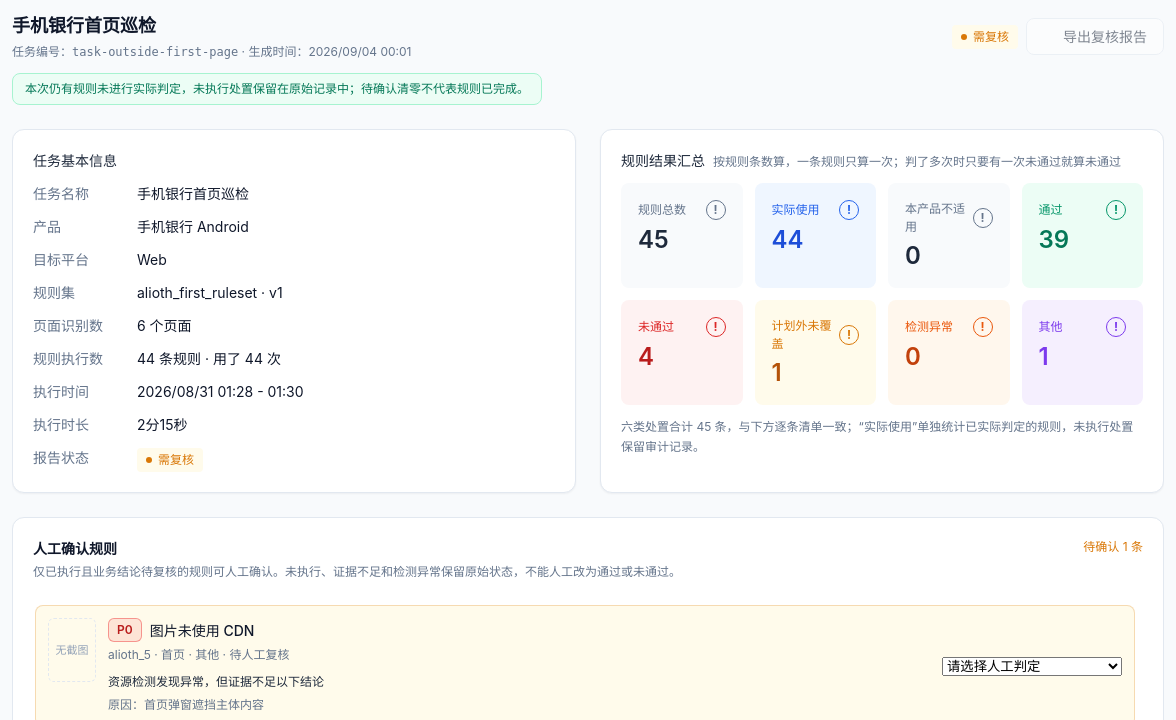
it: ReportCenterView 报告详情 › 人工确认规则区：列出需确认的规则，选完判定立即提交并刷新
The width and height of the screenshot is (1176, 720).
Expected: the element with test id "confirm-section" shows "人工确认规则", left=33, top=540, right=117, bottom=557
Expected: the element with test id "confirm-section" shows "仅已执行且业务结论待复核的规则可人工确认。", left=33, top=564, right=681, bottom=579
Select "本产品不适用" in the dropdown with test id "confirm-select-alioth_5" at x=1032, y=666, box left=942, top=657, right=1122, bottom=676
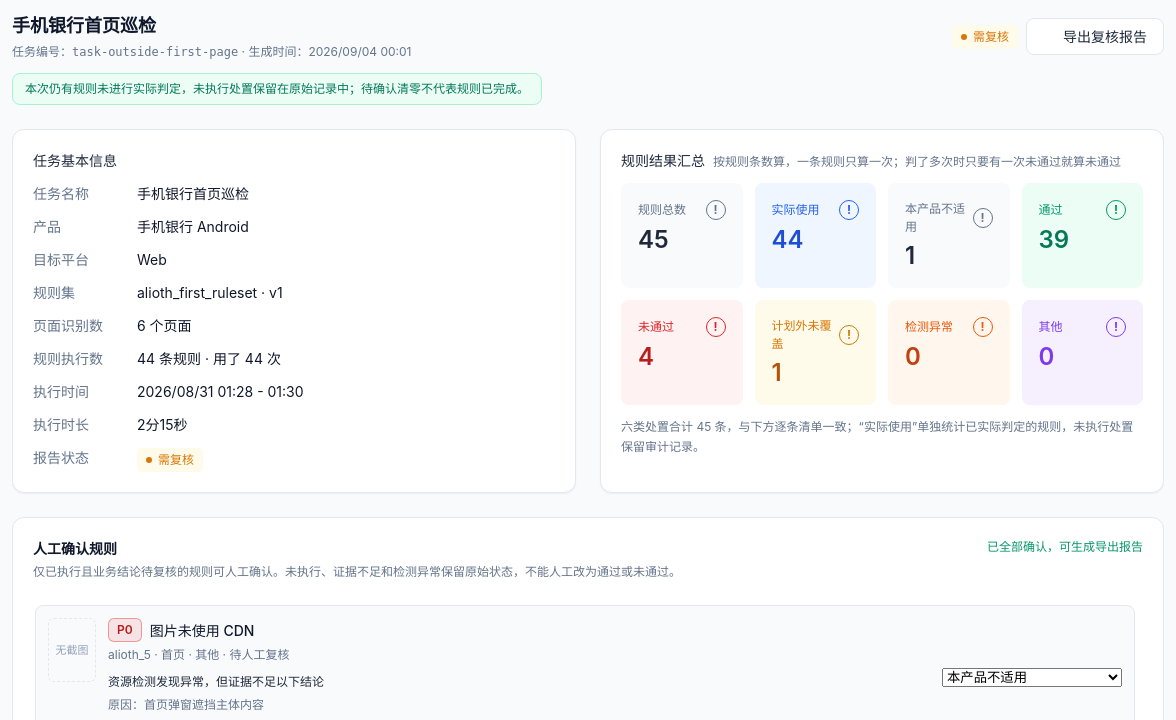
Expected: the text with test id "confirm-progress" reads "已全部确认，可生成导出报告", left=987, top=539, right=1143, bottom=554
